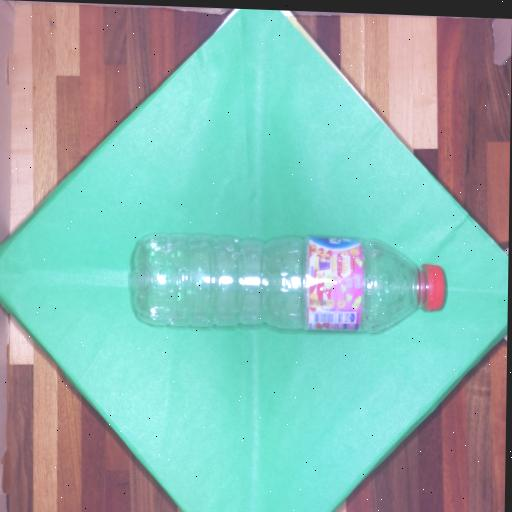bottle: (112, 207, 467, 368)
